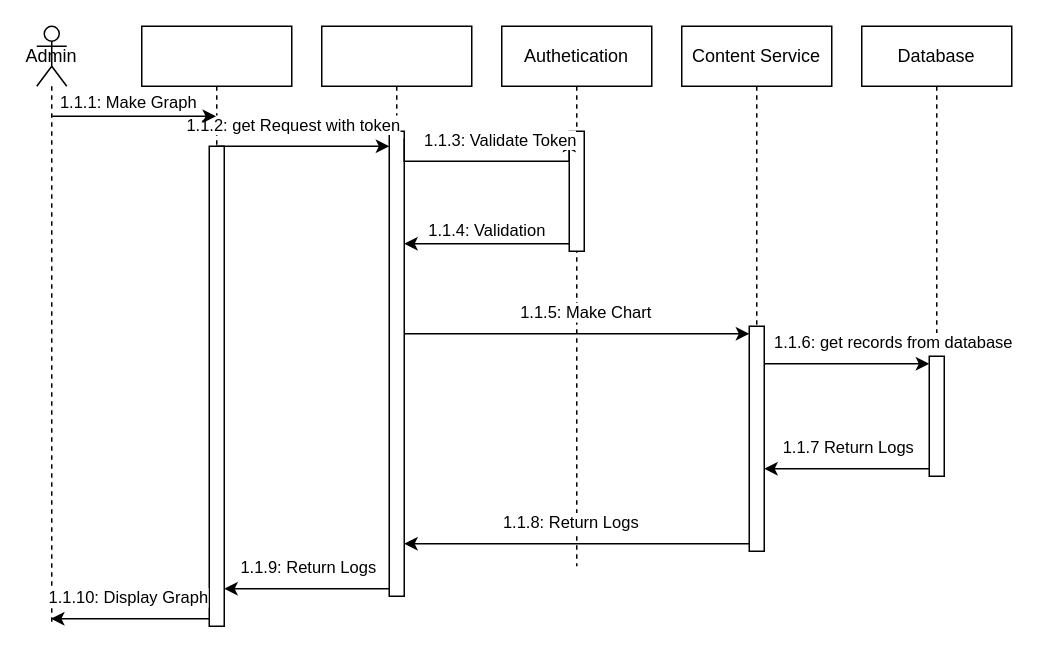
Some shapes in this 1038 by 657 pixel diagram are drawn without their labels. Each missing label, with the box of its shape:
Rest API: (320, 25, 472, 596)
UI: (140, 25, 292, 626)
